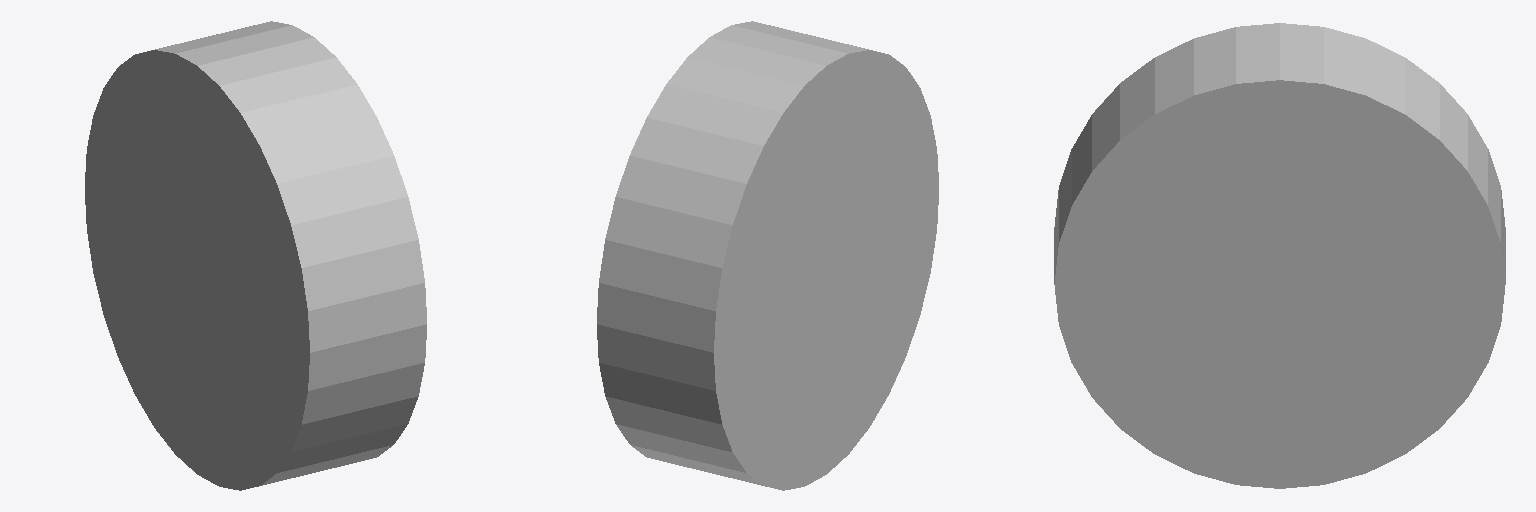
The model's file is wheel.obj.
3 renders of one model, left to right at view 1: azimuth 30°, elevation 25°; view 2: azimuth 150°, elevation 25°; view 3: azimuth 270°, elevation 25°, orthographic.
Parts seen in each view (by area): view 1: Cylinder; view 2: Cylinder; view 3: Cylinder.
Boxes of the visible parts, x1=… form: Cylinder: x1=85, y1=21, x2=426, y2=490; Cylinder: x1=597, y1=21, x2=938, y2=490; Cylinder: x1=1054, y1=23, x2=1505, y2=488.
Size of the model in its own units: 0.6 by 2 by 2.